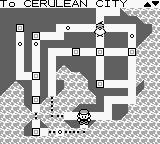main: (77, 108, 91, 125)
mo: (94, 21, 106, 38)
